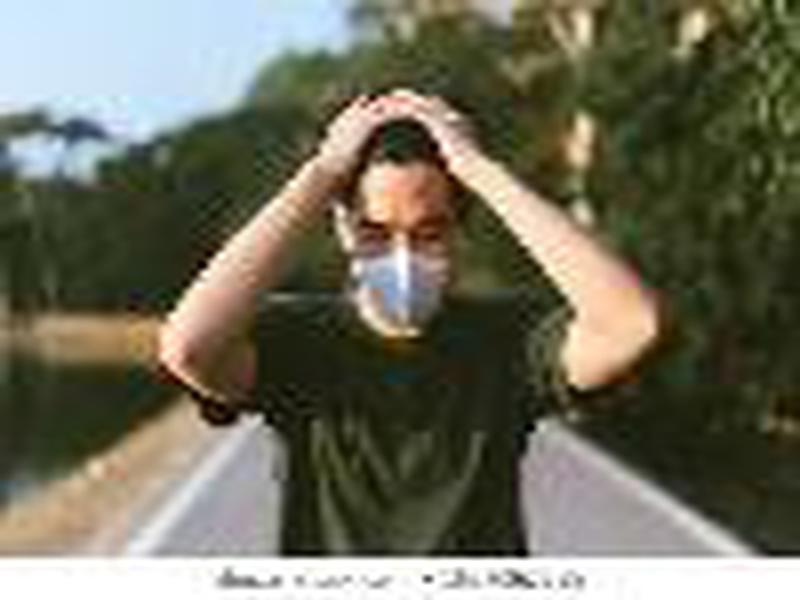with_mask: (345, 166, 459, 331)
